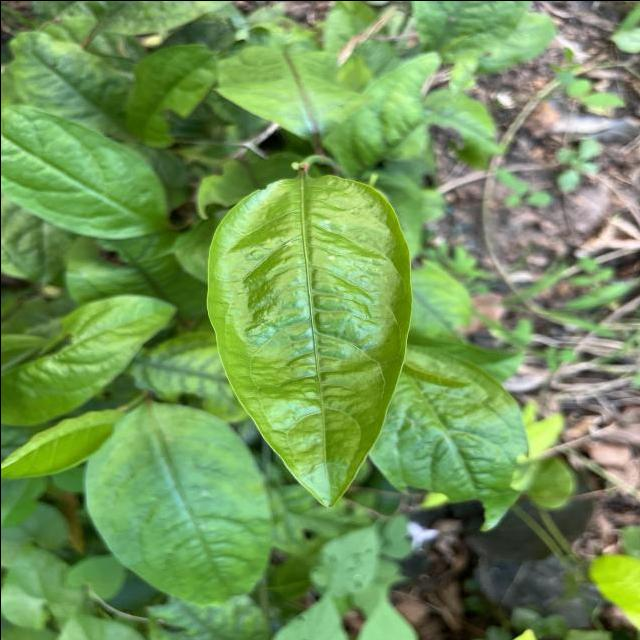Plumbago indica: (200, 166, 414, 513), (77, 402, 276, 614), (366, 345, 534, 538), (0, 105, 168, 246)
